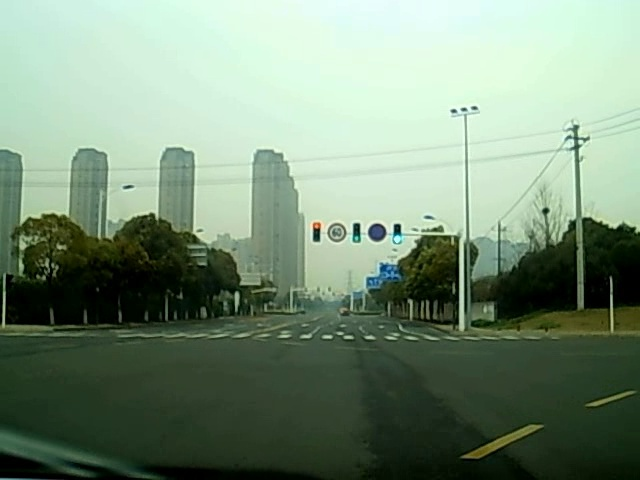Traffic_Light_go: (392, 224, 402, 246), (353, 222, 361, 246)
Traffic_Light_stop: (313, 222, 321, 244)
